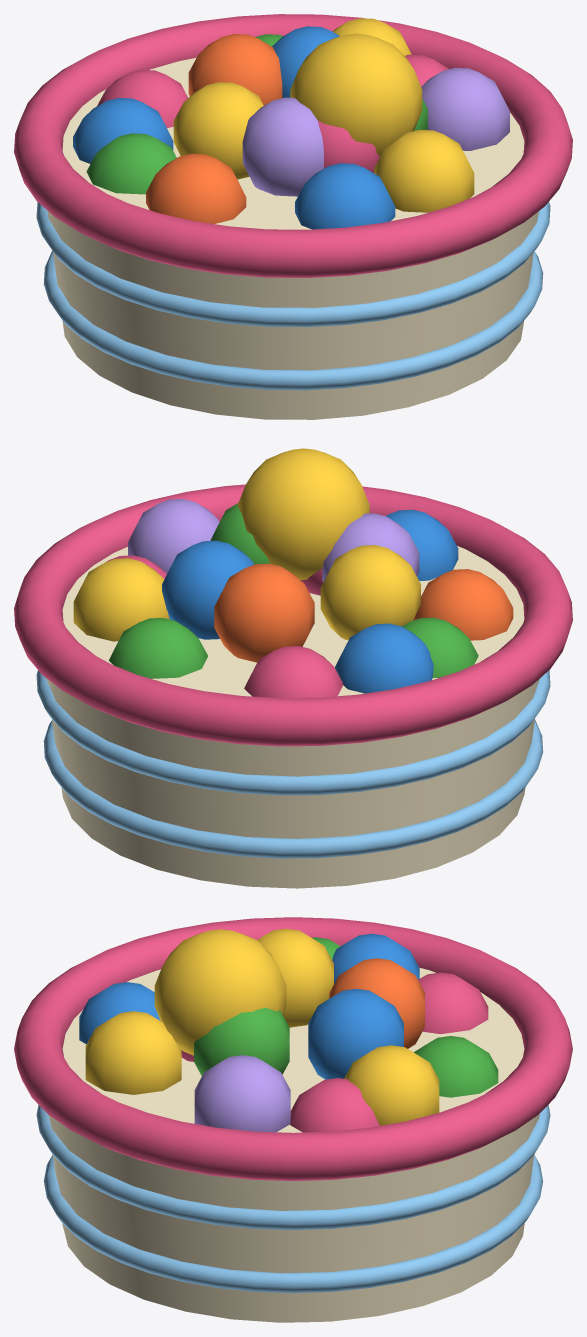
File: yarn-ballpit.glb
The picture shows the model from 3 angles, top to bottom: view 1: azimuth 30°, elevation 25°; view 2: azimuth 150°, elevation 25°; view 3: azimuth 270°, elevation 25°; orthographic projection.
Bounding box in the file's own units: 0.92 × 0.55 × 0.92.
